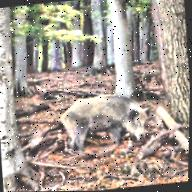boar: (39, 67, 152, 159)
